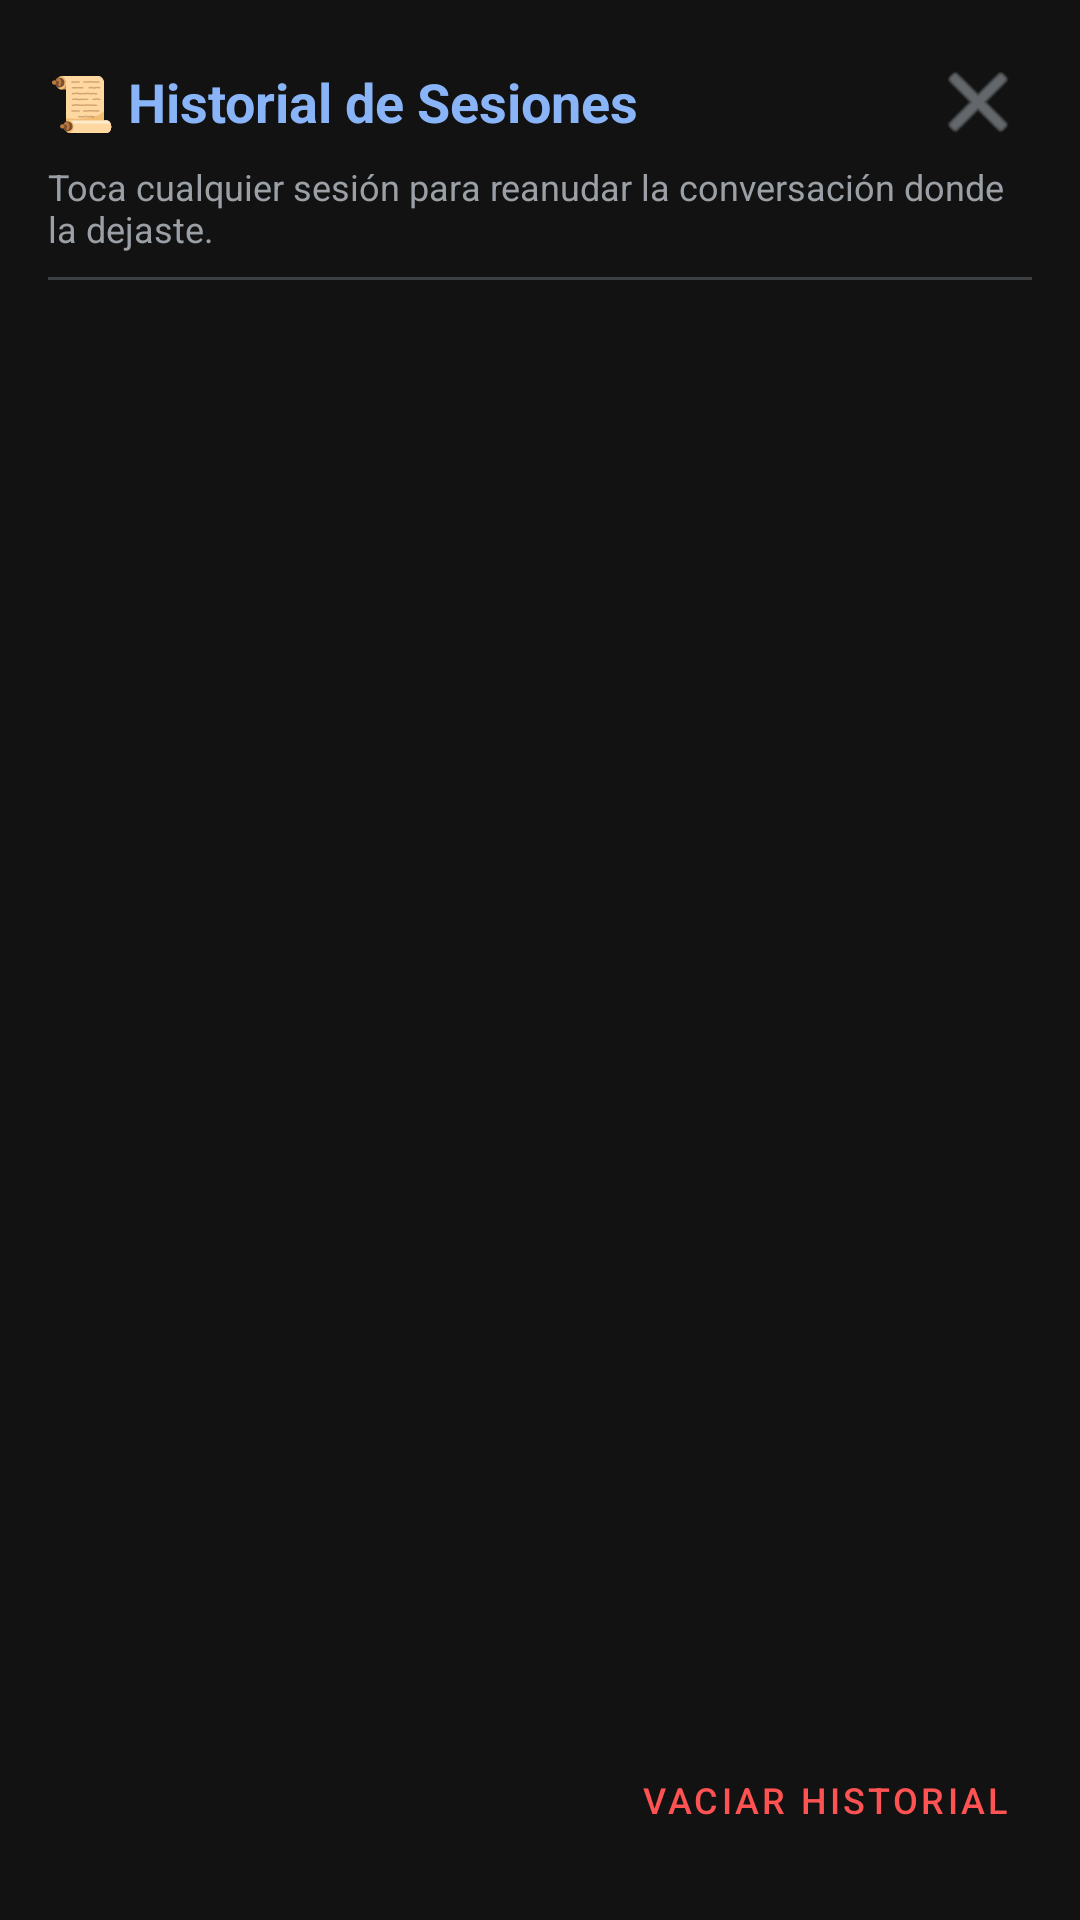

Icon bounding boxes for this 1080×1920 phone screenshot, format (x1, y1, x2, y2):
Cerrar: (948, 72, 1008, 132)
